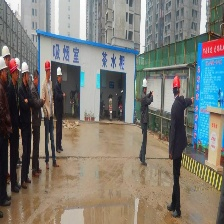helmet: (172, 75, 181, 89), (142, 77, 148, 92)
person: (167, 75, 190, 221), (9, 60, 23, 198), (21, 60, 33, 188), (42, 58, 55, 171), (31, 69, 43, 182), (141, 77, 154, 169), (55, 63, 63, 157)
